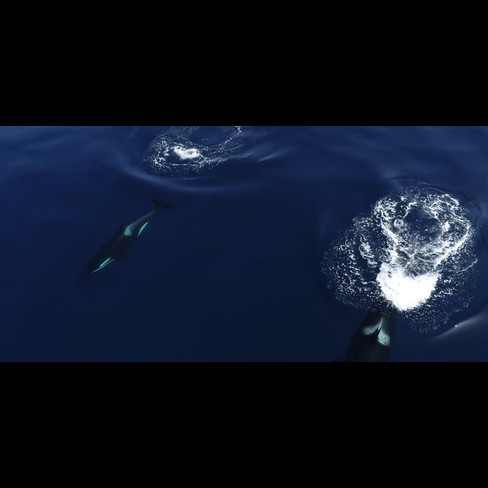orca: (335, 238, 427, 363), (79, 192, 180, 280)
